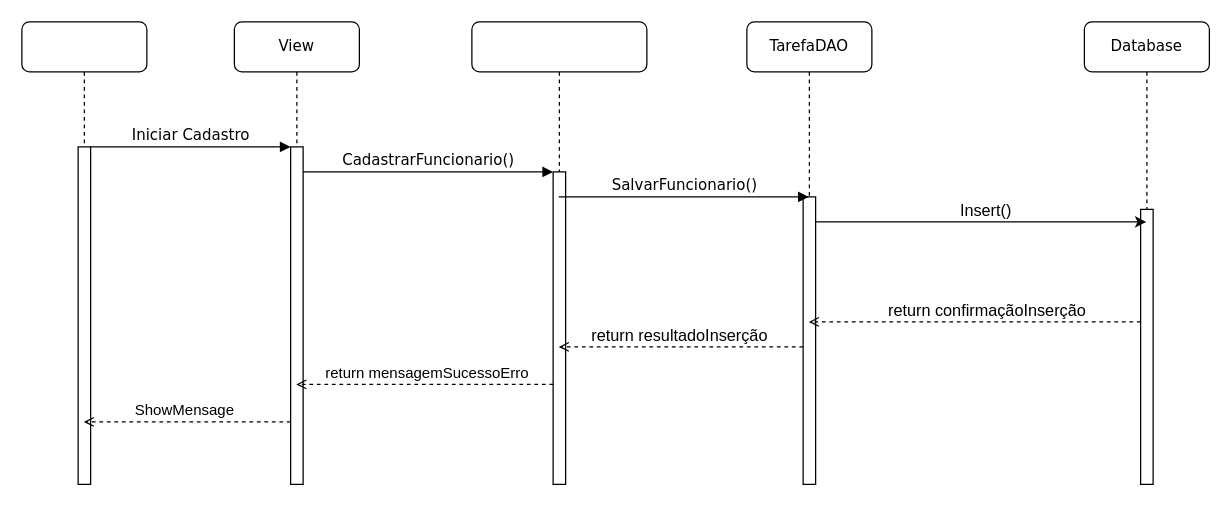
Some shapes in this 1231 by 506 pixel diagram are drawn without their labels. Here are the shapes that lost their labels. From the top down, the box of each, then its label:
(21, 21, 147, 484): User
(471, 21, 647, 484): FuncionarioController
